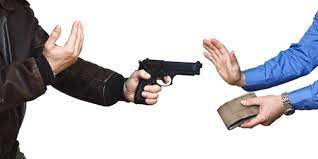gun: (131, 57, 206, 107)
